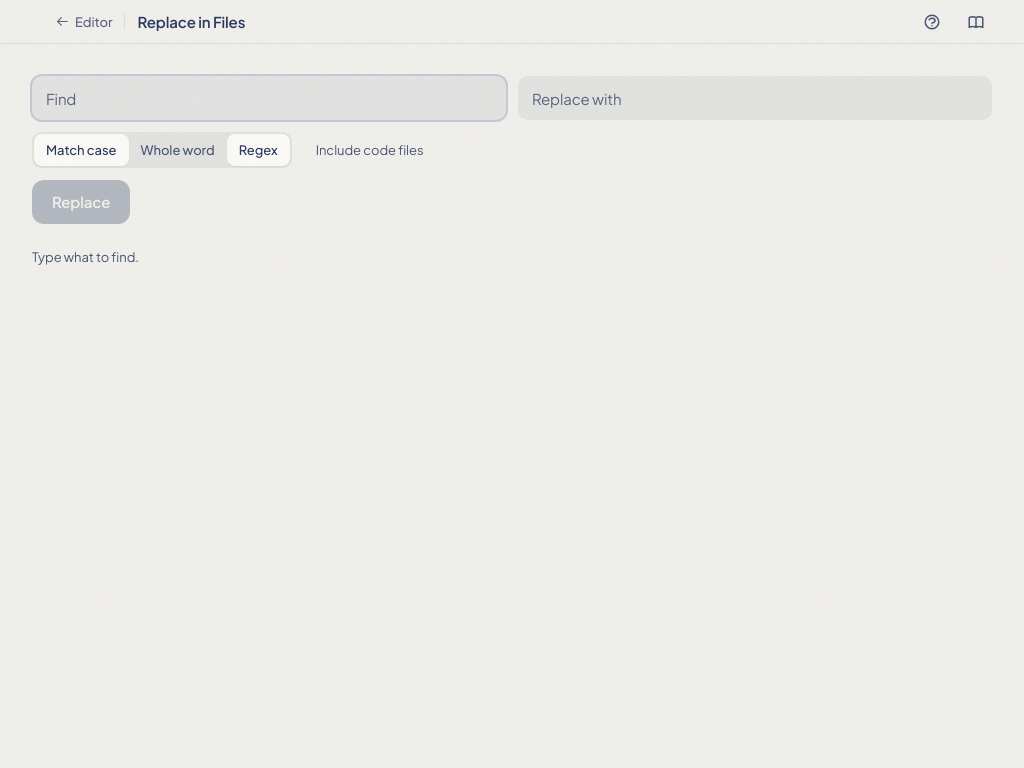
Test: ReplacePage › updates the button count when a match or a file is unchecked
This screenshot has width=1024, height=768.
In the field labelled "Find": (269,98) [32,76,506,120], type "foo"
Wait 300 ms
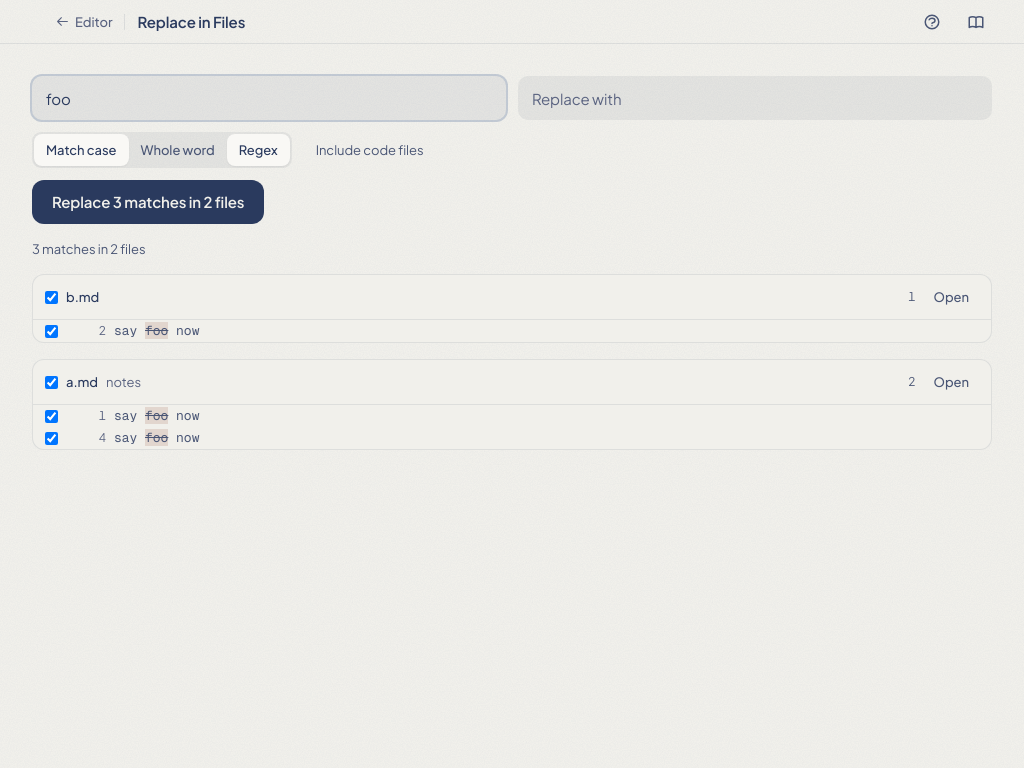
Click the checkbox named "Replace match on line": (52,416) [45,410,58,422]
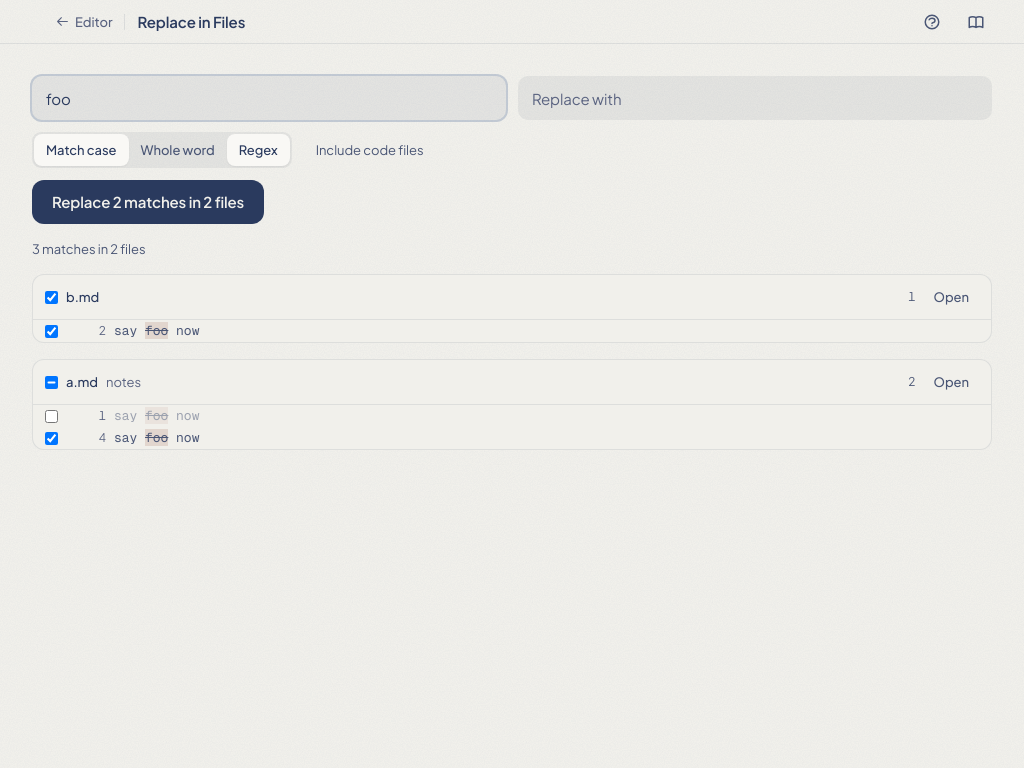
Expected: the button "Replace 2 matches in 2 files" is shown, [32,180,264,224]
Click the checkbox named "Replace in b.md": (52,297) [45,290,58,304]
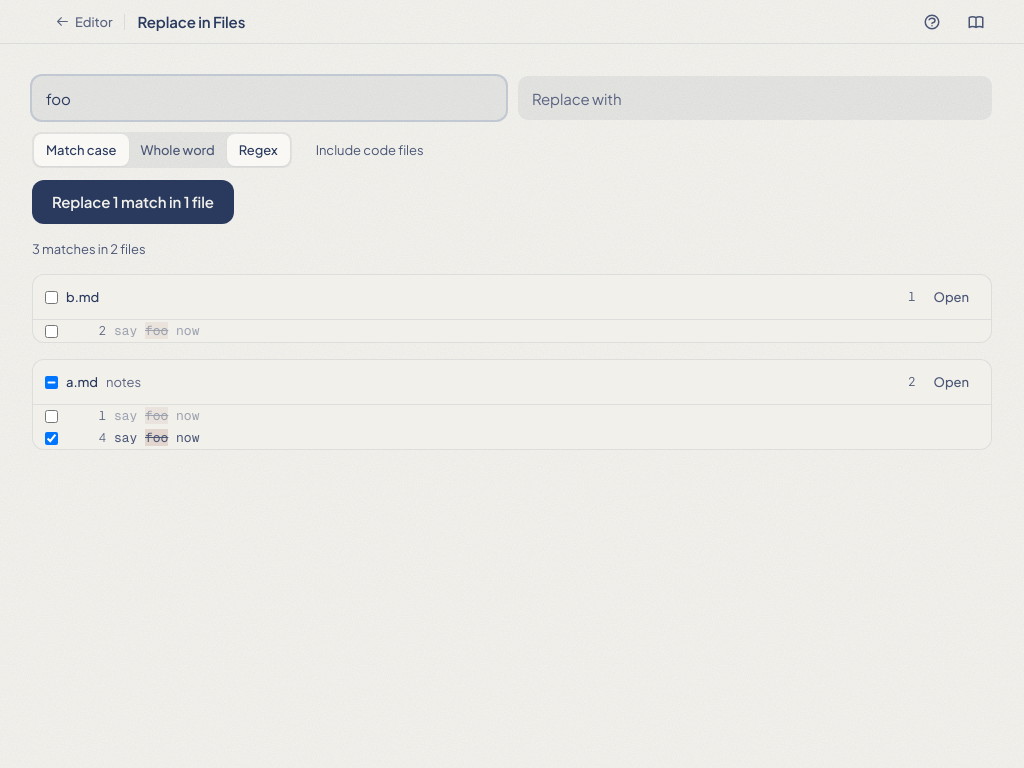
Expected: the button "Replace 1 match in 1 file" is shown, [32,180,234,224]
Click the checkbox named "Replace in notes/a.md": (52,382) [45,376,58,388]
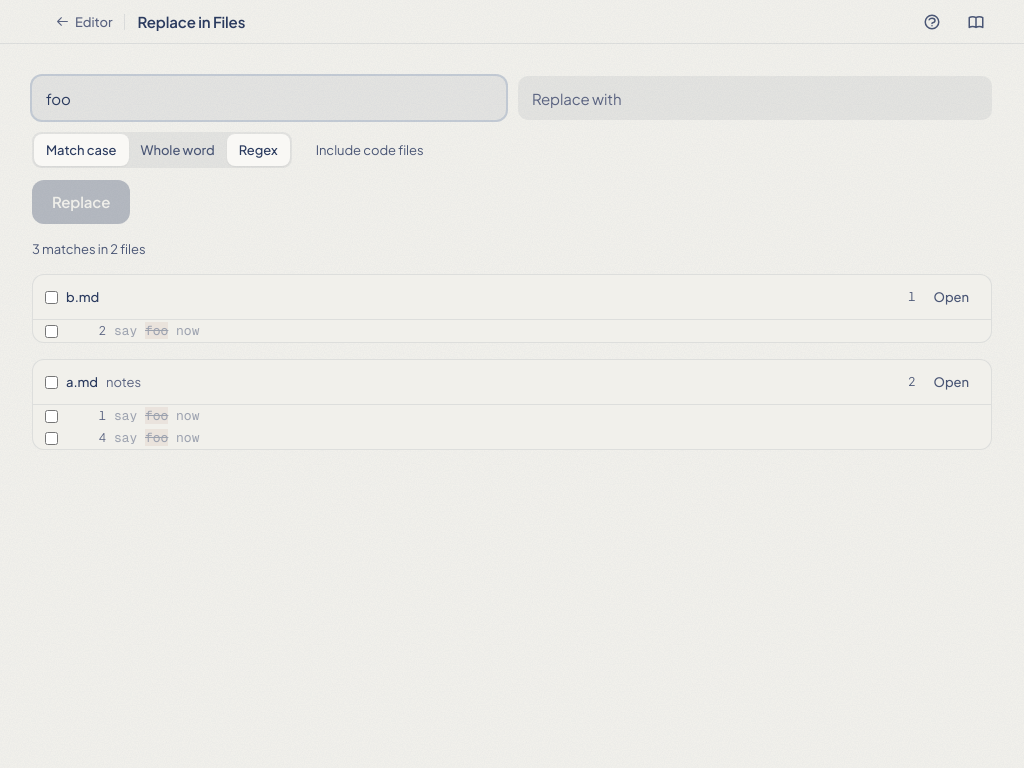
Expected: the button "Replace" is disabled, [32,180,130,224]
